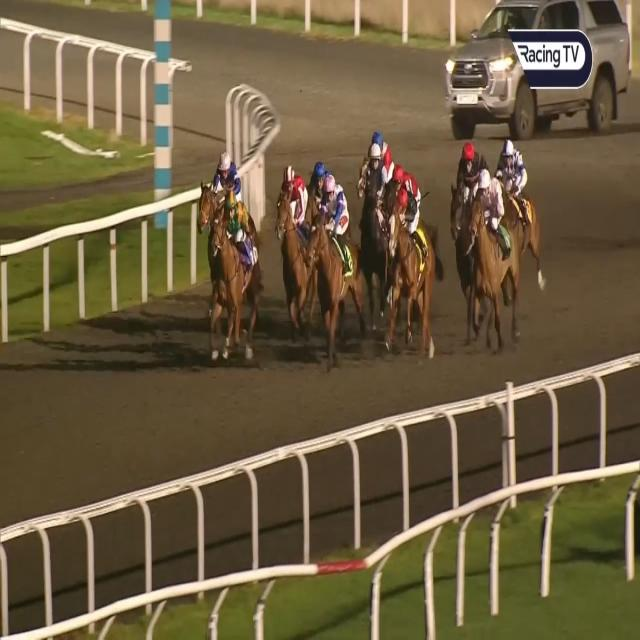horses-racing: (204, 170, 259, 362), (382, 184, 438, 355), (467, 168, 515, 325), (270, 163, 318, 318), (494, 135, 545, 272), (314, 173, 349, 356), (447, 138, 491, 217), (360, 148, 388, 266), (199, 154, 244, 222), (301, 152, 336, 208), (384, 158, 422, 209), (367, 125, 397, 169)
